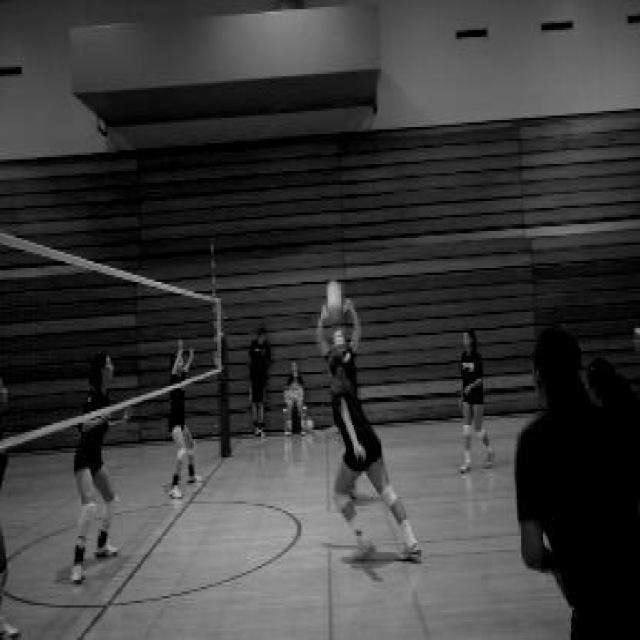volleyball: (326, 281, 346, 321)
